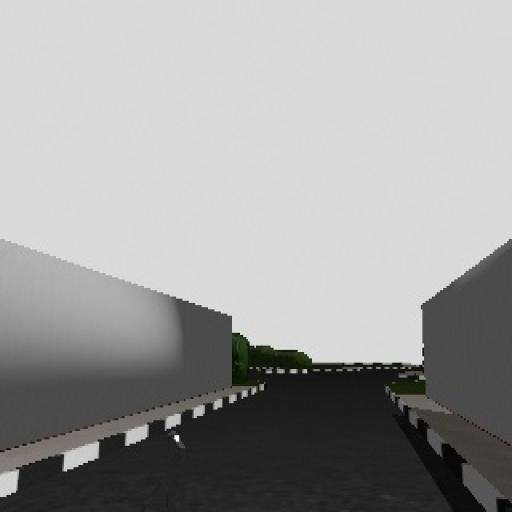huskya200: (154, 422, 194, 512)
